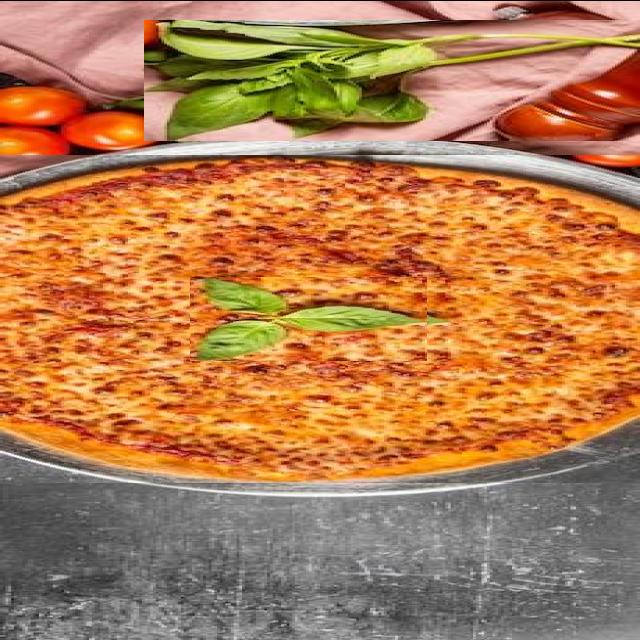basil: (144, 19, 640, 140), (190, 276, 427, 360)
pizza: (0, 154, 640, 482)
